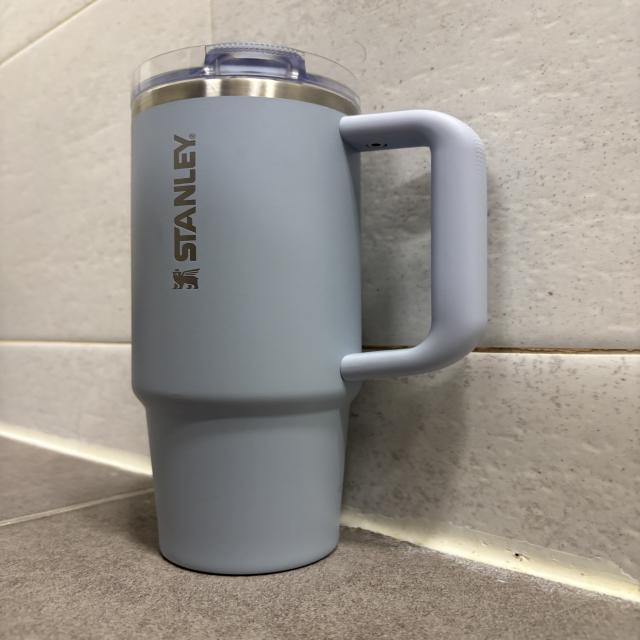waterbottle: (130, 41, 488, 577)
